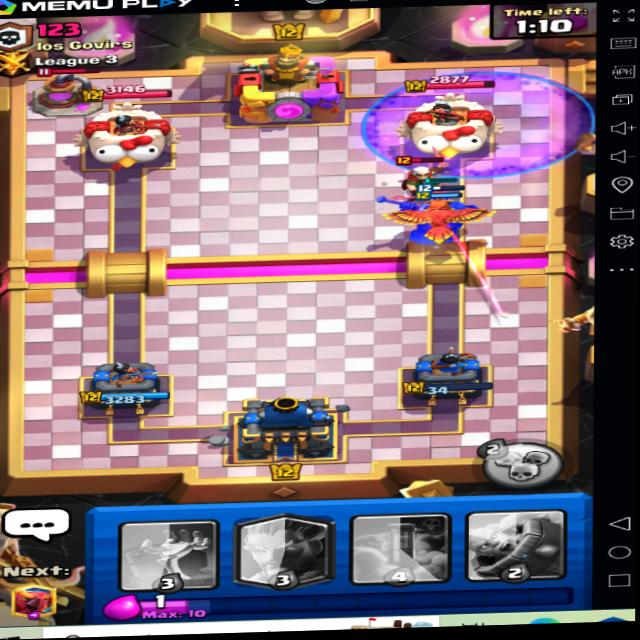elixir-collector: (13, 63, 107, 118)
magic-archer: (388, 152, 457, 205)
